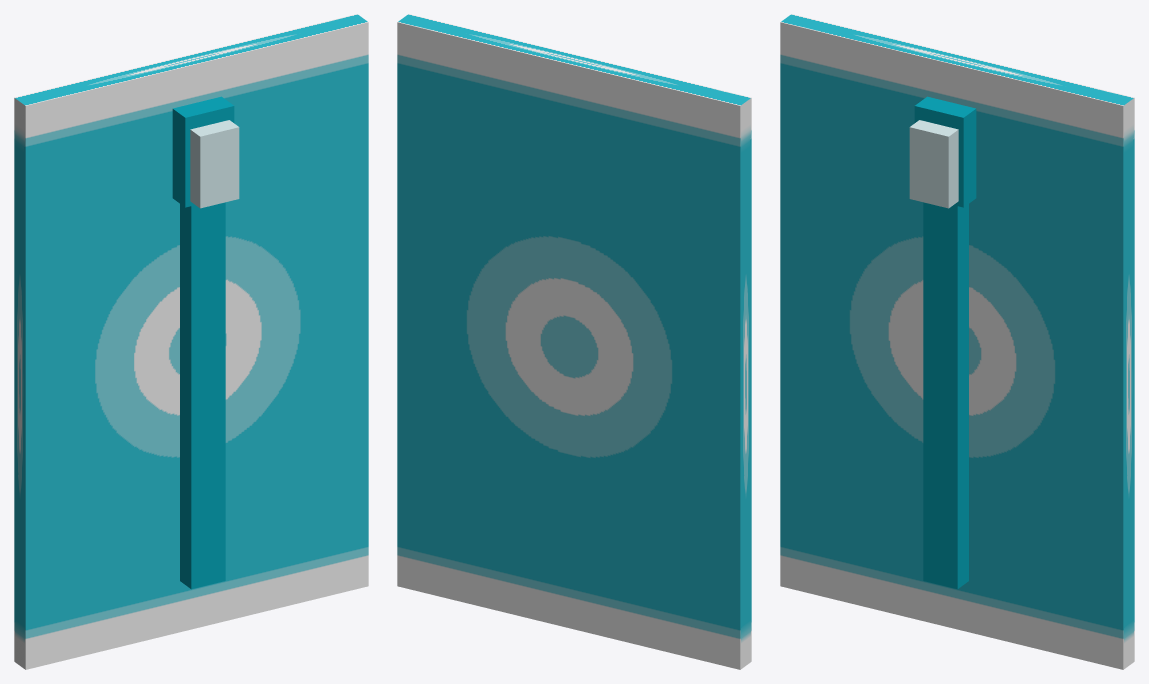
File: Toothbrush.fbx
3 renders of one model, left to right at view 1: azimuth 30°, elevation 25°; view 2: azimuth 150°, elevation 25°; view 3: azimuth 330°, elevation 25°, orthographic.
Parts seen in each view (by area): view 1: Toothbrush; view 2: Toothbrush; view 3: Toothbrush.
Boxes of the visible parts, left/top/right/bottom form: Toothbrush: left=14, top=14, right=368, bottom=669; Toothbrush: left=397, top=14, right=751, bottom=669; Toothbrush: left=780, top=14, right=1134, bottom=669.
Size of the model in its own units: 0.14 by 0.22 by 0.024.
Materials: 3 (1 with a texture image).
